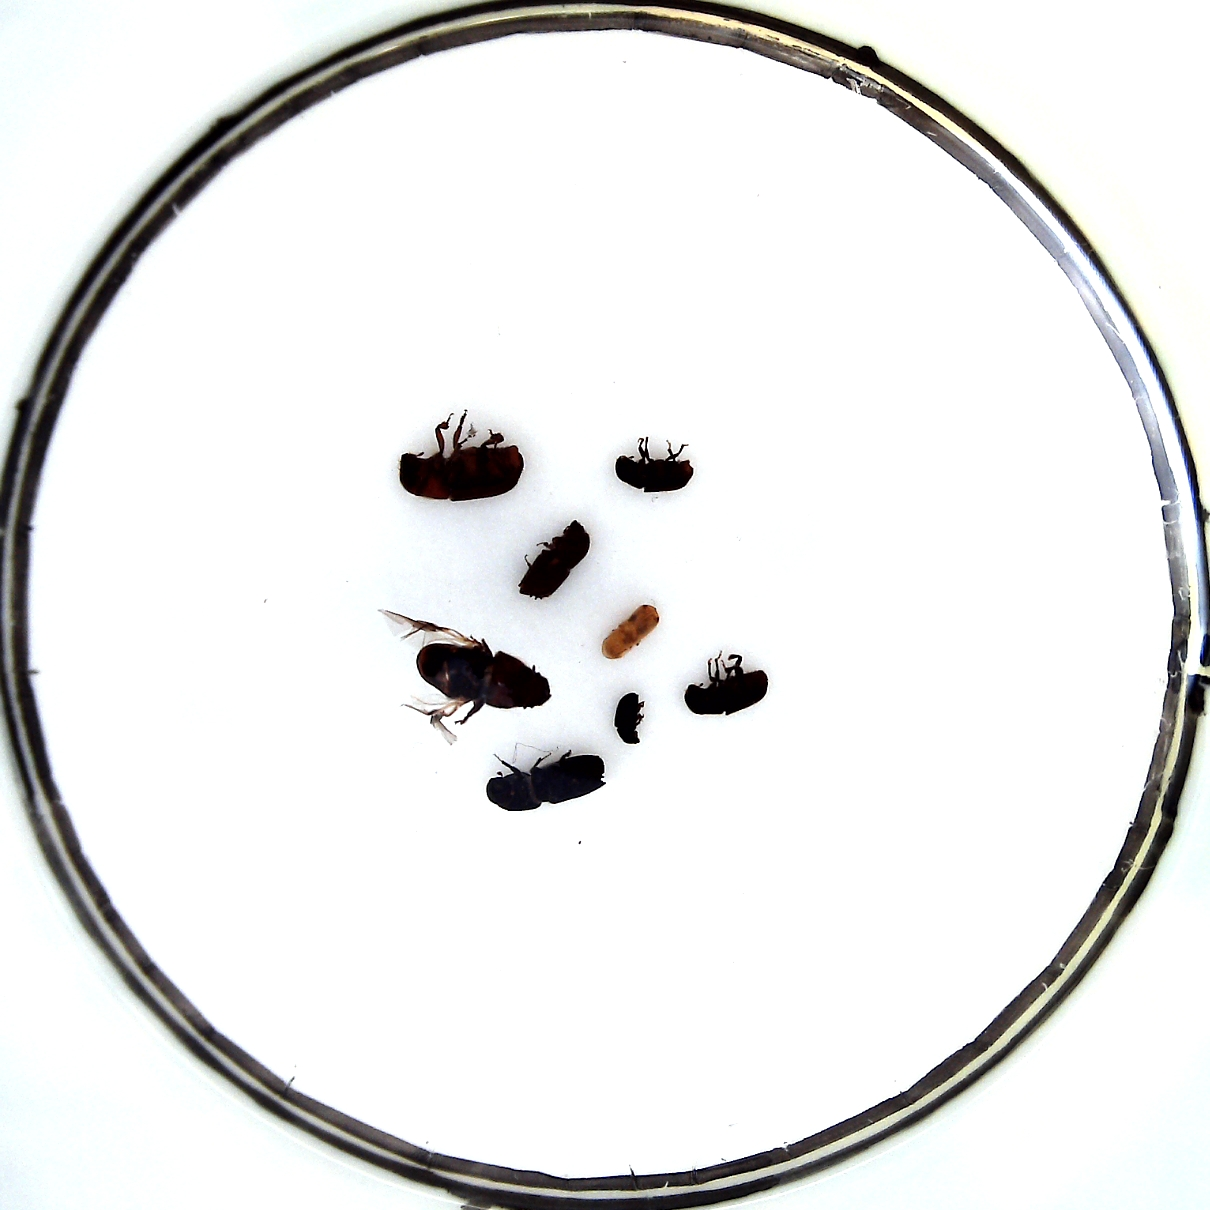Boerner: (486, 753, 605, 812)
Leconte: (414, 640, 551, 712), (398, 443, 525, 501)
acuminatus: (615, 693, 645, 744)
armandi: (683, 670, 768, 716), (613, 454, 694, 493)
coleoptera: (602, 604, 662, 658)
linnaeus: (516, 517, 591, 599)
